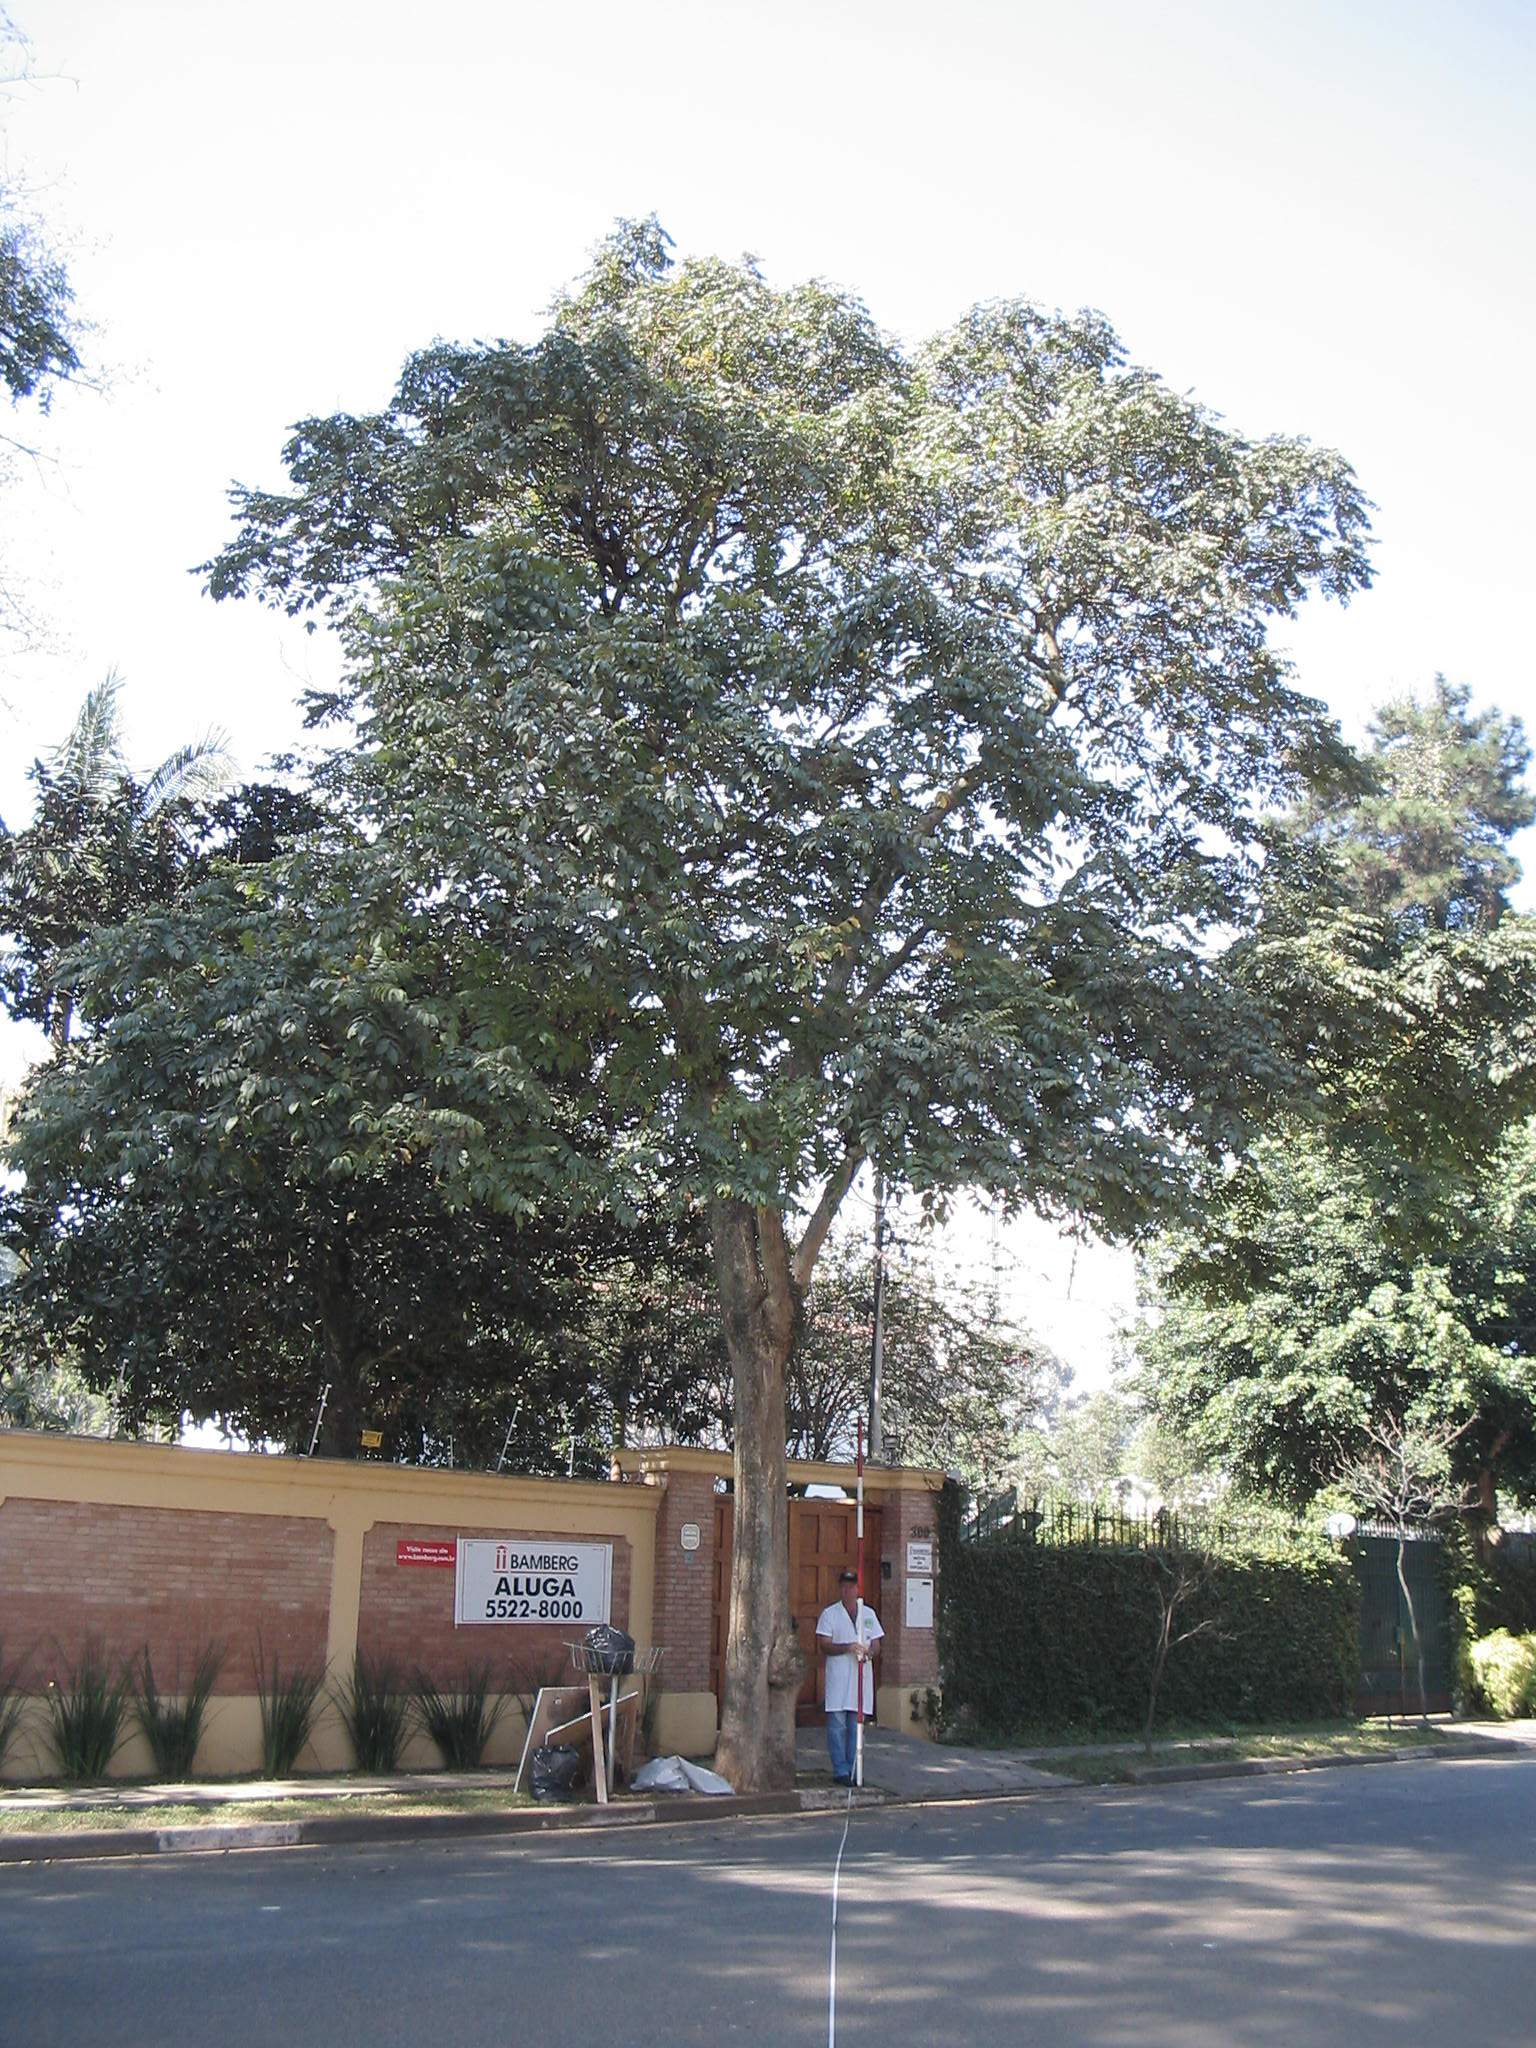crown: (211, 224, 1512, 1290)
stem: (671, 1287, 841, 1790)
stick: (833, 1417, 886, 1792)
tree: (203, 218, 1517, 1790)
